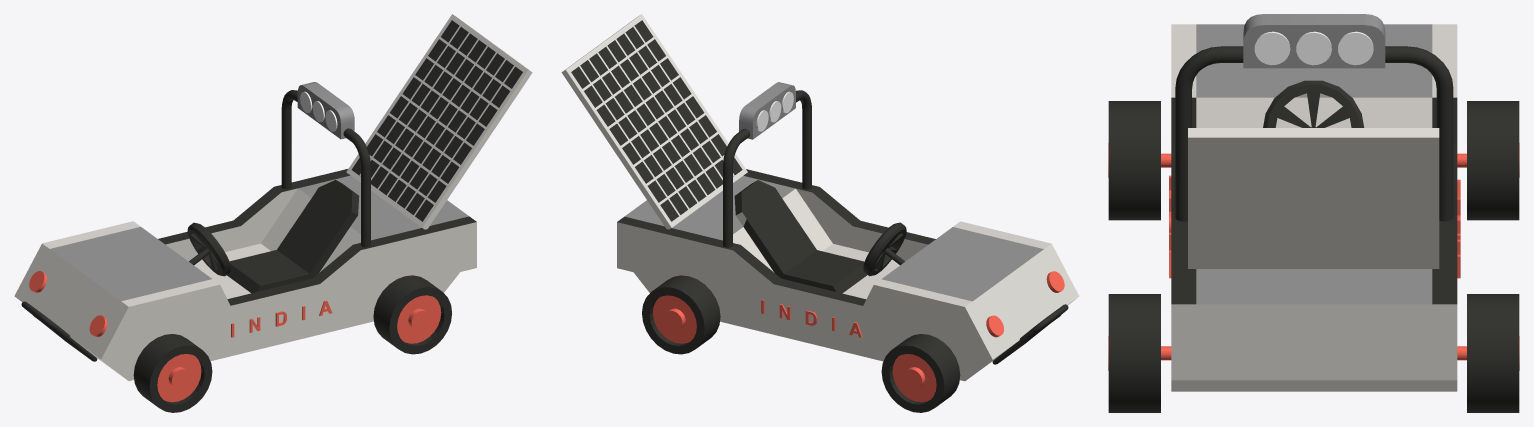
Rendered from 05 Space buggy.FBX.
3 renders of one model, left to right at view 1: azimuth 30°, elevation 25°; view 2: azimuth 150°, elevation 25°; view 3: azimuth 270°, elevation 25°, orthographic. The views are drawn at different scales.
Parts seen in each view (by area): view 1: Buggy; view 2: Buggy; view 3: Buggy.
Boxes of the visible parts, x1,y1,x2,y2 form: Buggy: (14,14,532,412); Buggy: (561,14,1079,412); Buggy: (1108,14,1519,412).
Bounding box in the file's own units: 4190 × 2031 × 1962.
